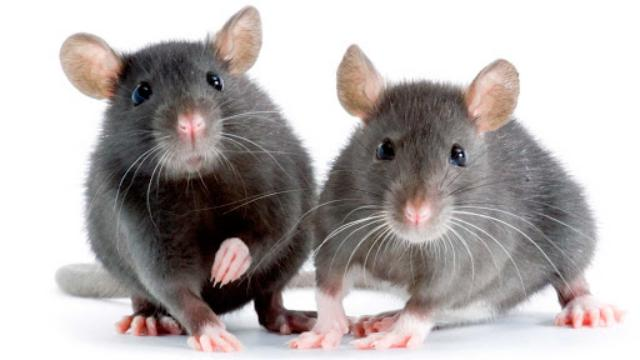rat: (44, 1, 304, 337), (303, 36, 533, 348)
